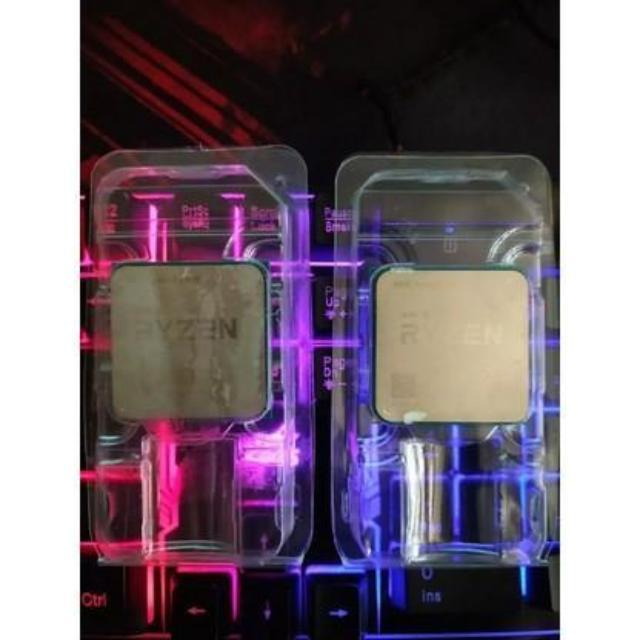CPU: (105, 257, 273, 420), (372, 264, 536, 427)
